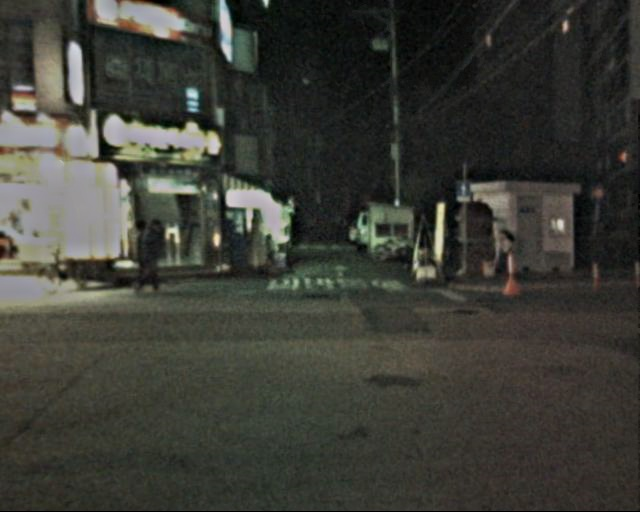person: (134, 218, 168, 296), (485, 222, 512, 289), (328, 212, 352, 245)
